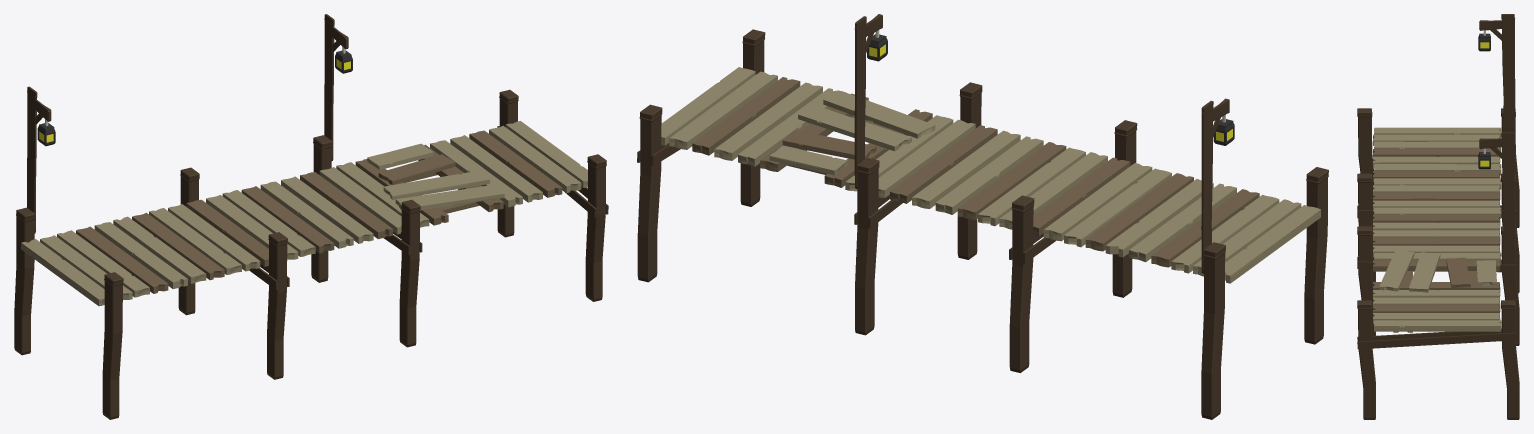
Rendered from Dock.fbx.
3 renders of one model, left to right at view 1: azimuth 30°, elevation 25°; view 2: azimuth 150°, elevation 25°; view 3: azimuth 270°, elevation 25°, orthographic. The views are drawn at different scales.
Parts seen in each view (by area): view 1: Cube.038, Cube.034, Cube.032, Cube.036, Cube.037, Cube.006, Cube.015, Cube.024, Cube.004, Cube.014, Cube.025, Cube.016 (+27 smaller); view 2: Cube.037, Cube, Cube.035, Cube.033, Cube.038, Cube.006, Cube.024, Cube.015, Cube.025, Cube.014, Cube.016, Cube.026 (+27 smaller); view 3: Cube, Cube.032, Cube.027, Cube.045, Cube.050, Cube.039, Cube.014, Cube.013, Cube.024, Cube.012, Cube.006, Cube.008 (+35 smaller).
Part boxes in pixels (x1,y1,x2,y2): Cube.038: [102, 272, 123, 419]; Cube.034: [399, 199, 420, 347]; Cube.032: [585, 154, 606, 301]; Cube.036: [267, 232, 287, 379]; Cube.037: [14, 207, 35, 355]; Cube.006: [21, 239, 104, 306]; Cube.015: [281, 176, 373, 243]; Cube.024: [450, 135, 542, 202]; Cube.004: [94, 222, 187, 289]; Cube.014: [260, 181, 353, 248]; Cube.025: [469, 130, 562, 197]; Cube.016: [300, 172, 392, 239]; Cube.037: [1201, 242, 1225, 419]; Cube: [637, 104, 662, 282]; Cube.035: [1009, 195, 1034, 372]; Cube.033: [855, 157, 879, 335]; Cube.038: [1304, 167, 1328, 344]; Cube.006: [1225, 205, 1320, 283]; Cube.024: [714, 82, 822, 160]; Cube.015: [912, 130, 1020, 208]; Cube.025: [692, 77, 800, 155]; Cube.014: [935, 136, 1043, 214]; Cube.016: [890, 125, 997, 203]; Cube.026: [669, 71, 777, 149]; Cube: [1501, 300, 1519, 419]; Cube.032: [1357, 300, 1375, 419]; Cube.027: [1374, 320, 1501, 331]; Cube.045: [1501, 132, 1515, 248]; Cube.050: [1501, 14, 1515, 130]; Cube.039: [1357, 332, 1516, 349]; Cube.014: [1373, 222, 1500, 230]; Cube.013: [1373, 214, 1500, 222]; Cube.024: [1373, 297, 1500, 305]; Cube.012: [1374, 207, 1501, 218]; Cube.006: [1374, 127, 1501, 138]; Cube.008: [1374, 178, 1501, 189].
Bounding box in the file's own units: 4899 × 2468 × 1696.
